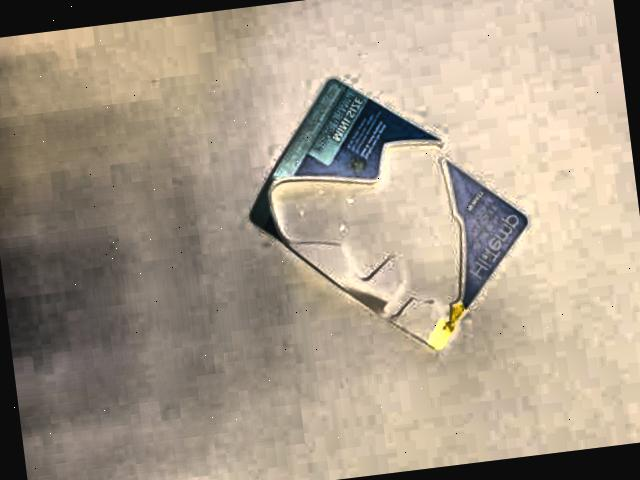Paper: (224, 52, 544, 373)
